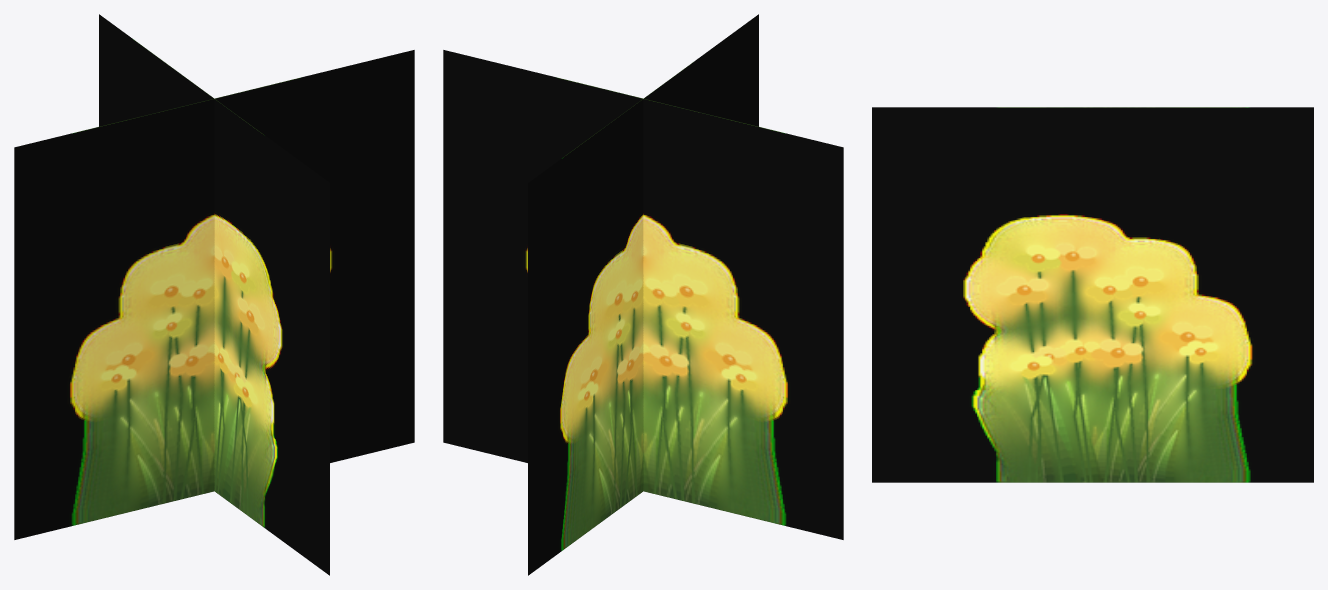
The model's file is buttercups.glb.
3 views of the same model, side by side, from view 1: azimuth 30°, elevation 25°; view 2: azimuth 150°, elevation 25°; view 3: azimuth 270°, elevation 25° (orthographic). The views are drawn at different scales.
Visible parts, largest first — view 1: buttercups_mesh; view 2: buttercups_mesh; view 3: buttercups_mesh.
Part boxes in pixels (<box>): buttercups_mesh: <box>14,14,414,575</box>; buttercups_mesh: <box>443,14,843,575</box>; buttercups_mesh: <box>872,107,1313,482</box>.
Bounding box in the file's own units: 0.8 × 0.75 × 0.8.
Materials: 1 (1 with a texture image).
